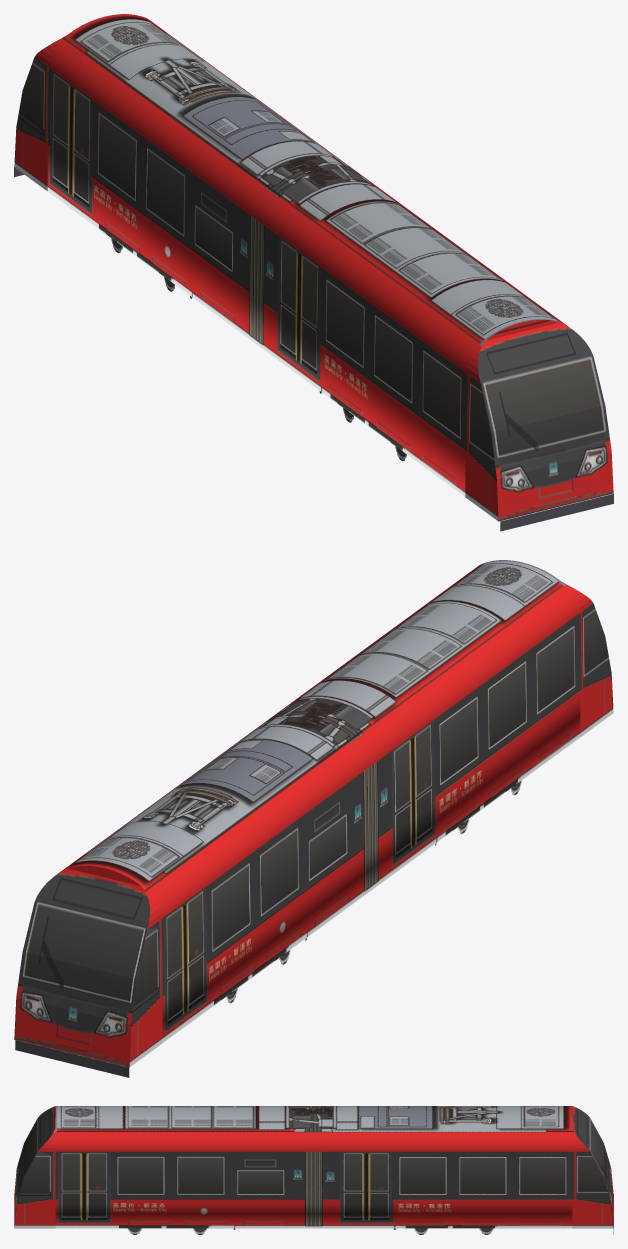
The model's file is car1.glb.
3 renders of one model, top to bottom at view 1: azimuth 30°, elevation 25°; view 2: azimuth 150°, elevation 25°; view 3: azimuth 270°, elevation 25°, orthographic. The views are drawn at different scales.
Parts seen in each view (by area): view 1: manyosenmlrv1000-car1; view 2: manyosenmlrv1000-car1; view 3: manyosenmlrv1000-car1.
Part boxes in pixels (x1,y1,x2,y2): manyosenmlrv1000-car1: [14, 14, 613, 531]; manyosenmlrv1000-car1: [14, 560, 613, 1077]; manyosenmlrv1000-car1: [14, 1106, 613, 1234].
Size of the model in its own units: 2.4 by 3.41 by 17.51.
Materials: 8 (7 with a texture image).
